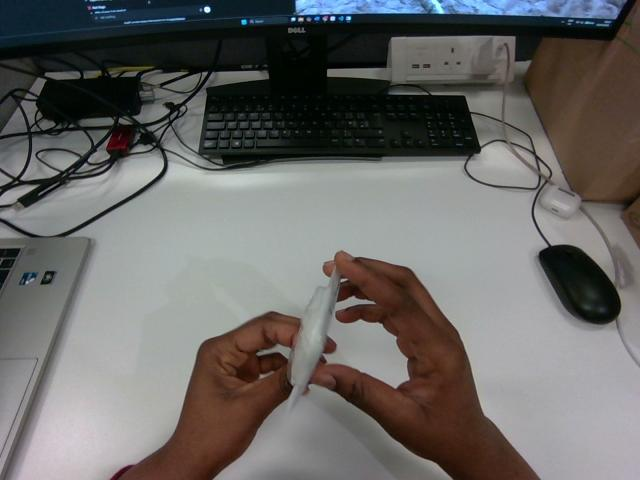gauze: (287, 268, 340, 410)
